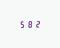eight: (26, 20, 32, 27)
five: (18, 20, 24, 28)
two: (33, 19, 39, 27)
